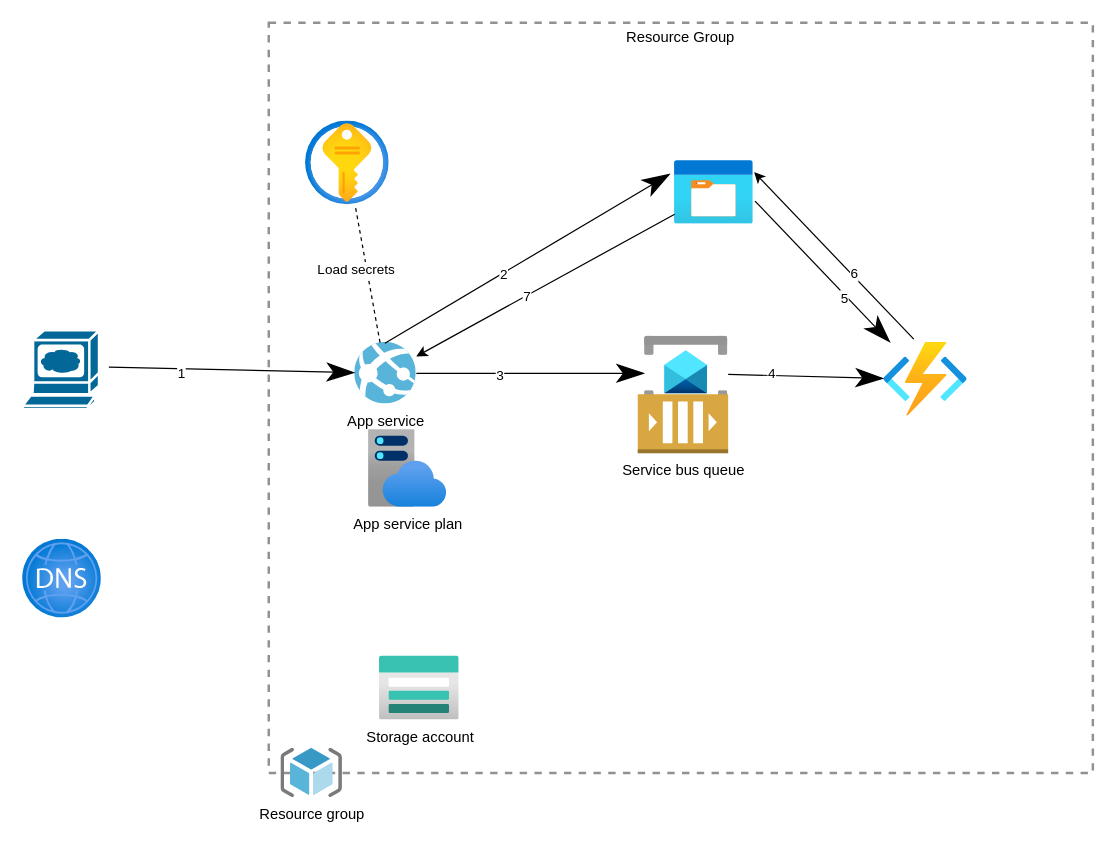
Image size: 1114x844. Some labels were removed from this diagram. The shapes that lost their labels are listed below. From the top down, each one's box as (x1, y1, x2, y2) in pixels, then its label:
(305, 121, 389, 204): Key vault
(674, 160, 753, 224): Storage container
(883, 342, 967, 416): Function app
